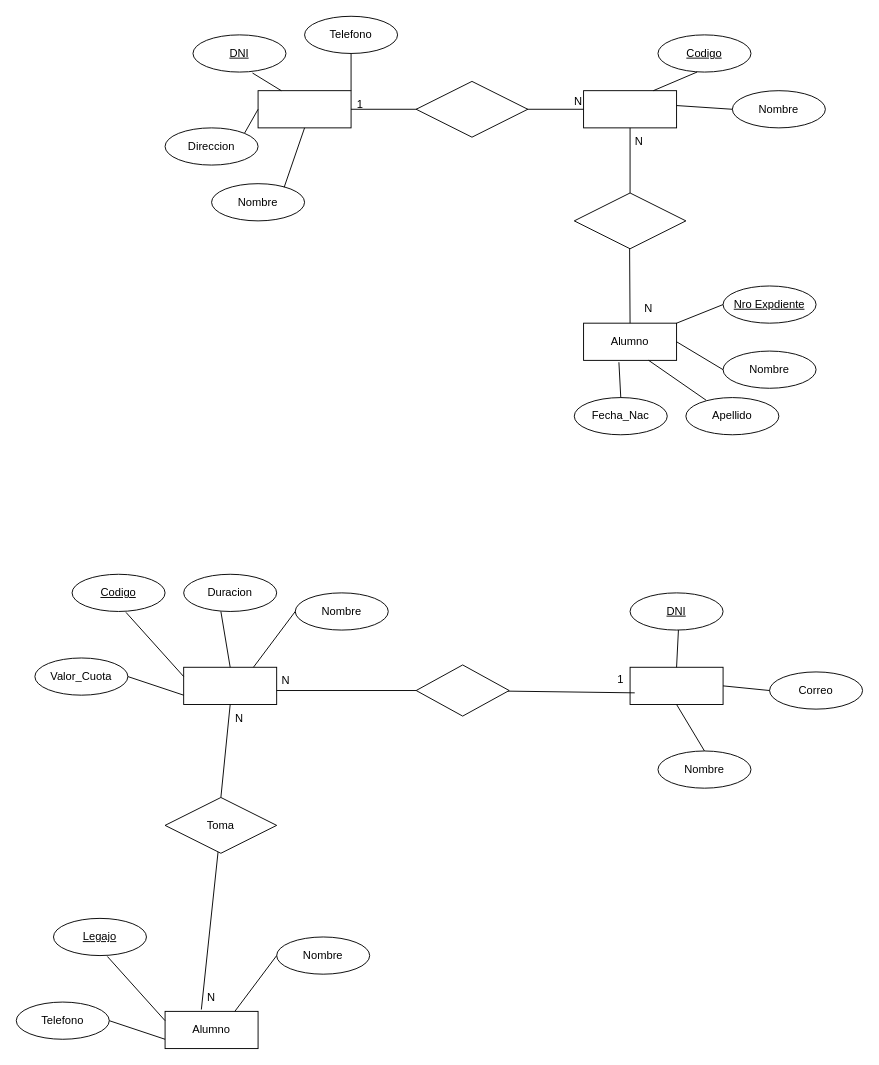
The diagram is 879 pixels wide and 1065 high, and some of its shapes have lost their labels. The centre of each missing label's shape, as x and y in pixels:
"Curso" goes at point (230, 685).
"Dictado" goes at point (462, 690).
"Impartir" goes at point (471, 108).
"Instructor" goes at point (676, 685).
"Matricular" goes at point (629, 220).
"Modulo" goes at point (630, 109).
"Profesor" goes at point (304, 109).
